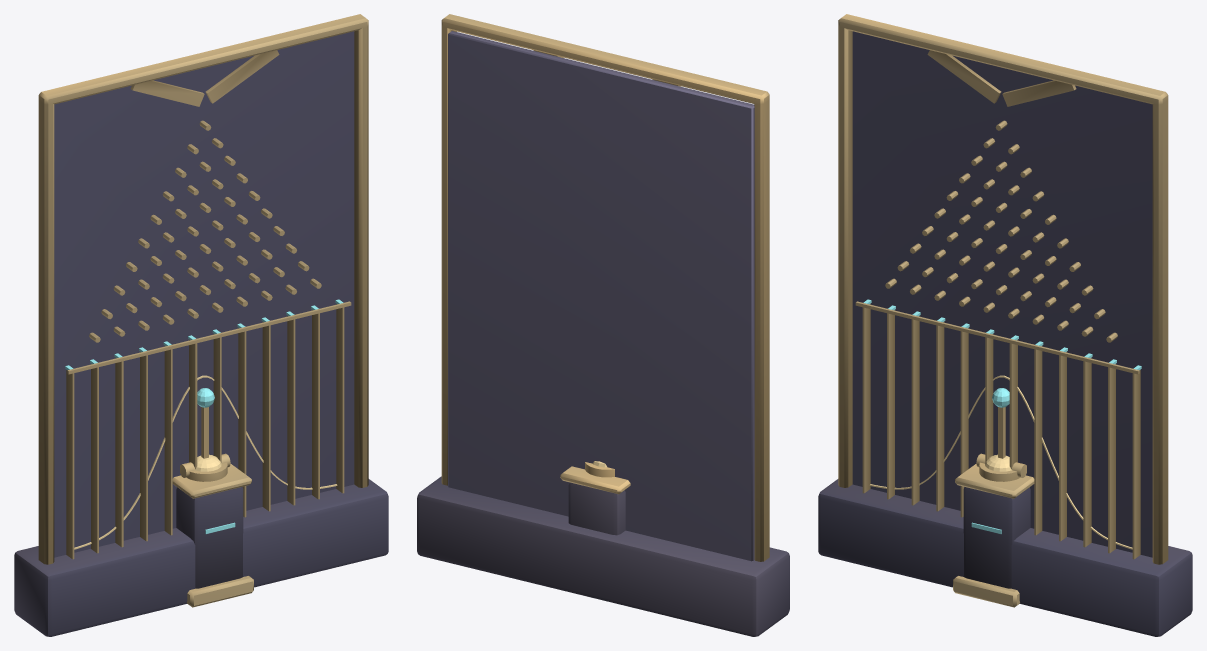
Rendered from galton_board.glb.
3 views of the same model, side by side, from view 1: azimuth 30°, elevation 25°; view 2: azimuth 150°, elevation 25°; view 3: azimuth 330°, elevation 25° (orthographic).
Parts seen in each view (by area): view 1: board, gb_button_base, tilt_arm; view 2: board, gb_button_base; view 3: board, gb_button_base, tilt_arm.
Part boxes in pixels (x1,y1,x2,y2): board: (14,14,388,636); gb_button_base: (172,454,253,607); tilt_arm: (180,388,230,477); board: (417,14,789,636); gb_button_base: (560,461,630,535); board: (818,14,1192,636); gb_button_base: (953,454,1034,607); tilt_arm: (976,388,1026,477).
Size of the model in its own units: 2.8 by 4.17 by 0.56.
